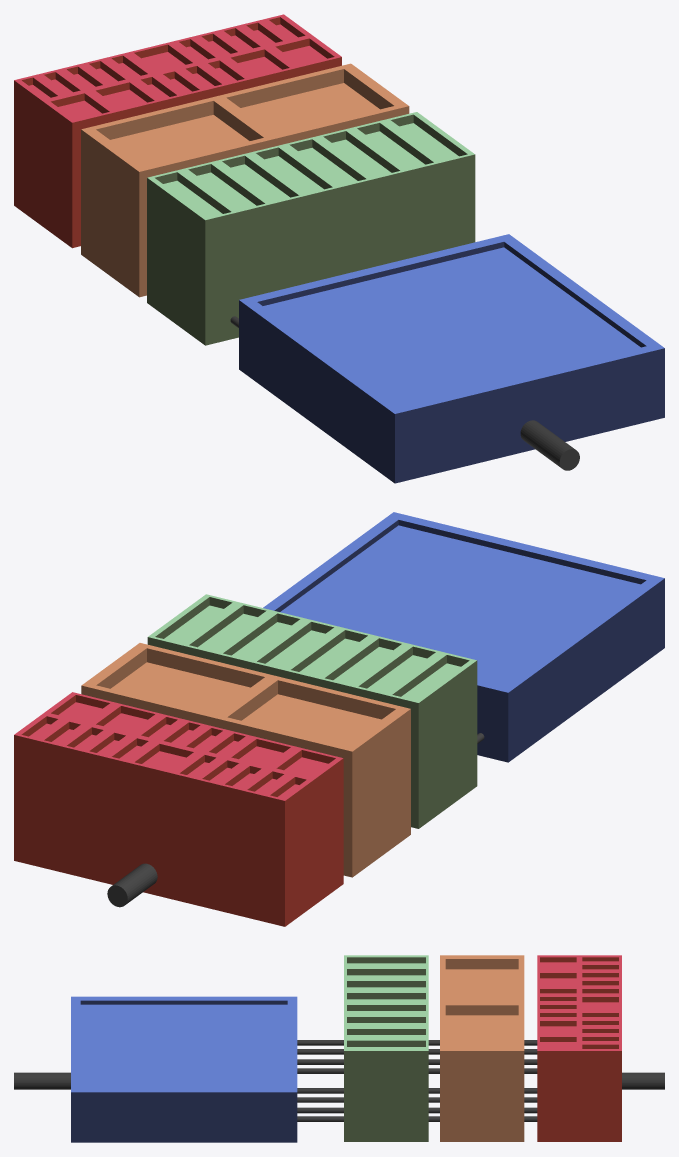
The model's file is WTP-DTI.glb.
3 views of the same model, one above another, from view 1: azimuth 30°, elevation 25°; view 2: azimuth 150°, elevation 25°; view 3: azimuth 270°, elevation 25° (orthographic). The views are drawn at different scales.
Visible parts, largest first — view 1: Cube001_1, Cube003_2, Cube001_2, Cube005_1, Cube004_1, Cube004, Cube003_1, Cube005, Cylinder024; view 2: Cube005_1, Cube001_1, Cube003_2, Cube004_1, Cube001_2, Cube004, Cube003_1, Cube005, Cylinder025; view 3: Cube001_1, Cube001_2, Cube003_2, Cube005_1, Cube004_1, Cube004, Cube005, Cube003_1, Cylinder024, Cylinder025, Cylinder006.
Boxes of the visible parts, x1=… form: Cube001_1: x1=239, y1=234, x2=664, y2=413; Cube003_2: x1=147, y1=114, x2=475, y2=345; Cube001_2: x1=239, y1=242, x2=664, y2=483; Cube005_1: x1=14, y1=17, x2=341, y2=248; Cube004_1: x1=81, y1=69, x2=409, y2=297; Cube004: x1=81, y1=63, x2=408, y2=171; Cube003_1: x1=147, y1=112, x2=474, y2=220; Cube005: x1=14, y1=14, x2=341, y2=122; Cylinder024: x1=520, y1=420, x2=579, y2=470; Cube005_1: x1=14, y1=695, x2=343, y2=926; Cube001_1: x1=263, y1=512, x2=664, y2=692; Cube003_2: x1=147, y1=597, x2=477, y2=828; Cube004_1: x1=81, y1=648, x2=410, y2=877; Cube001_2: x1=274, y1=520, x2=664, y2=762; Cube004: x1=81, y1=643, x2=410, y2=751; Cube003_1: x1=148, y1=594, x2=476, y2=702; Cube005: x1=14, y1=692, x2=342, y2=800; Cylinder025: x1=107, y1=863, x2=157, y2=907; Cube001_1: x1=71, y1=996, x2=297, y2=1092; Cube001_2: x1=71, y1=1000, x2=297, y2=1142; Cube003_2: x1=344, y1=957, x2=428, y2=1141; Cube005_1: x1=537, y1=957, x2=621, y2=1141; Cube004_1: x1=440, y1=959, x2=524, y2=1141; Cube004: x1=440, y1=955, x2=524, y2=1050; Cube005: x1=537, y1=955, x2=621, y2=1050; Cube003_1: x1=344, y1=955, x2=428, y2=1050; Cylinder024: x1=14, y1=1072, x2=70, y2=1089; Cylinder025: x1=622, y1=1072, x2=664, y2=1089; Cylinder006: x1=297, y1=1107, x2=343, y2=1113.
Bounding box in the file's own units: 10.05 × 4.45 × 28.76.
